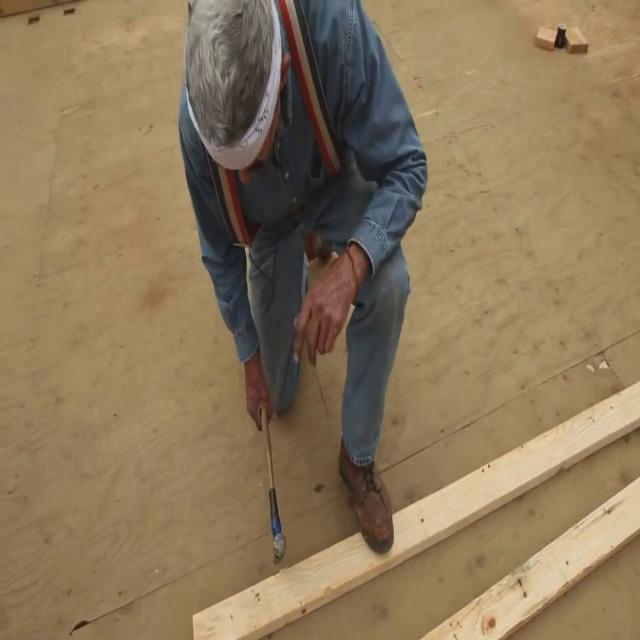hammer: (260, 406, 286, 565)
